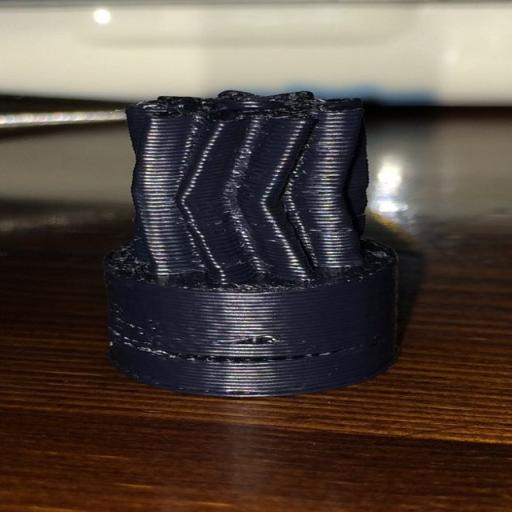cracks: (173, 339, 339, 373)
